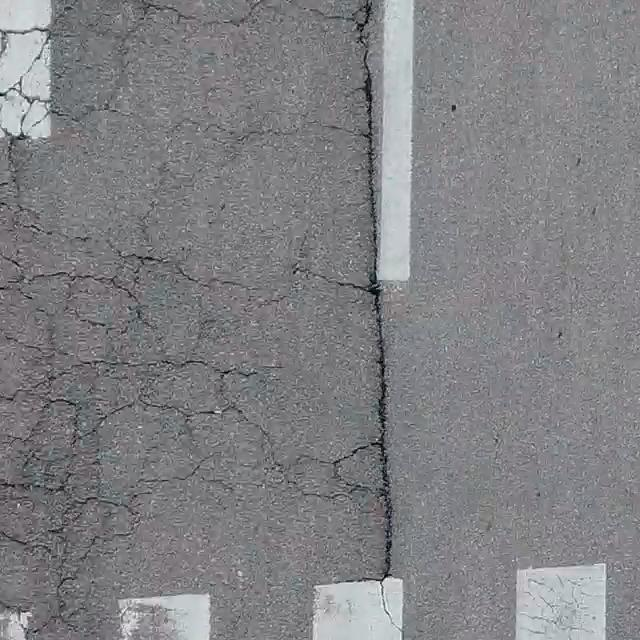GRIETA: (380, 505, 404, 632)
PIEL DE COCODRILO: (0, 0, 395, 639)
